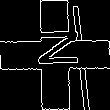N_W: (29, 34, 81, 76)
